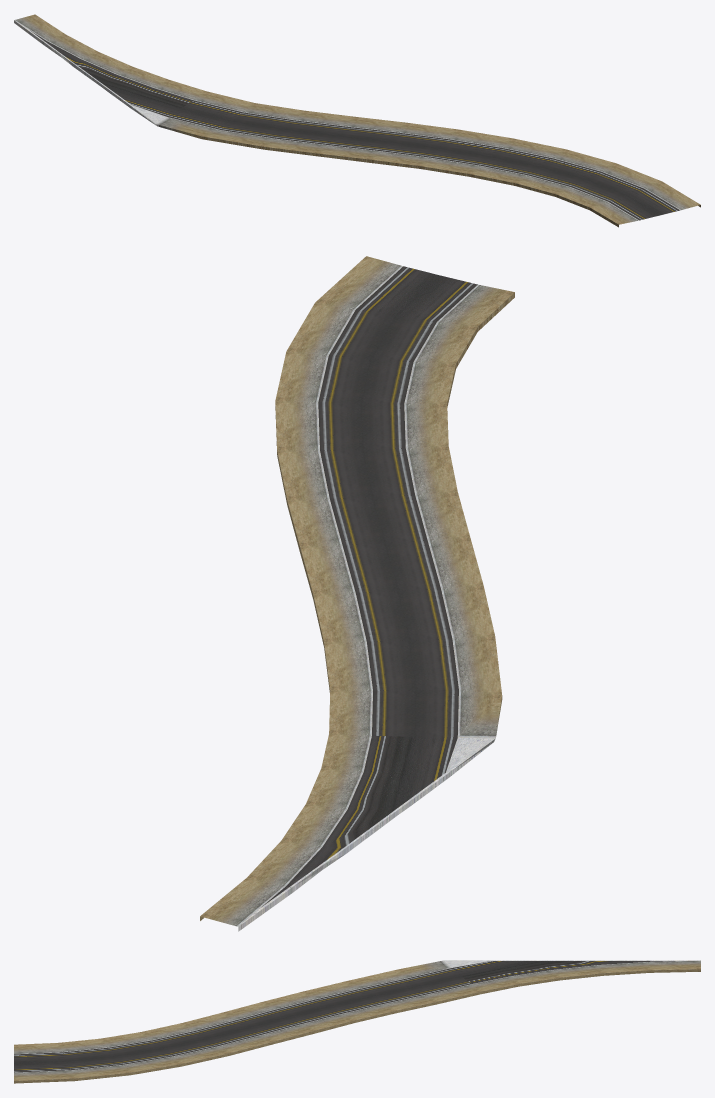
Rendered from vegaseroad069.obj.
3 renders of one model, top to bottom at view 1: azimuth 30°, elevation 25°; view 2: azimuth 150°, elevation 25°; view 3: azimuth 270°, elevation 25°, orthographic. The views are drawn at different scales.
Visible parts, largest first — view 1: VegasEroad069; view 2: VegasEroad069; view 3: VegasEroad069.
Part boxes in pixels (<box>): VegasEroad069: <box>14,14,700,227</box>; VegasEroad069: <box>200,256,514,931</box>; VegasEroad069: <box>14,960,700,1083</box>.
Bounding box in the file's own units: 75.19 × 4.87 × 160.
Materials: 4 (4 with a texture image).
